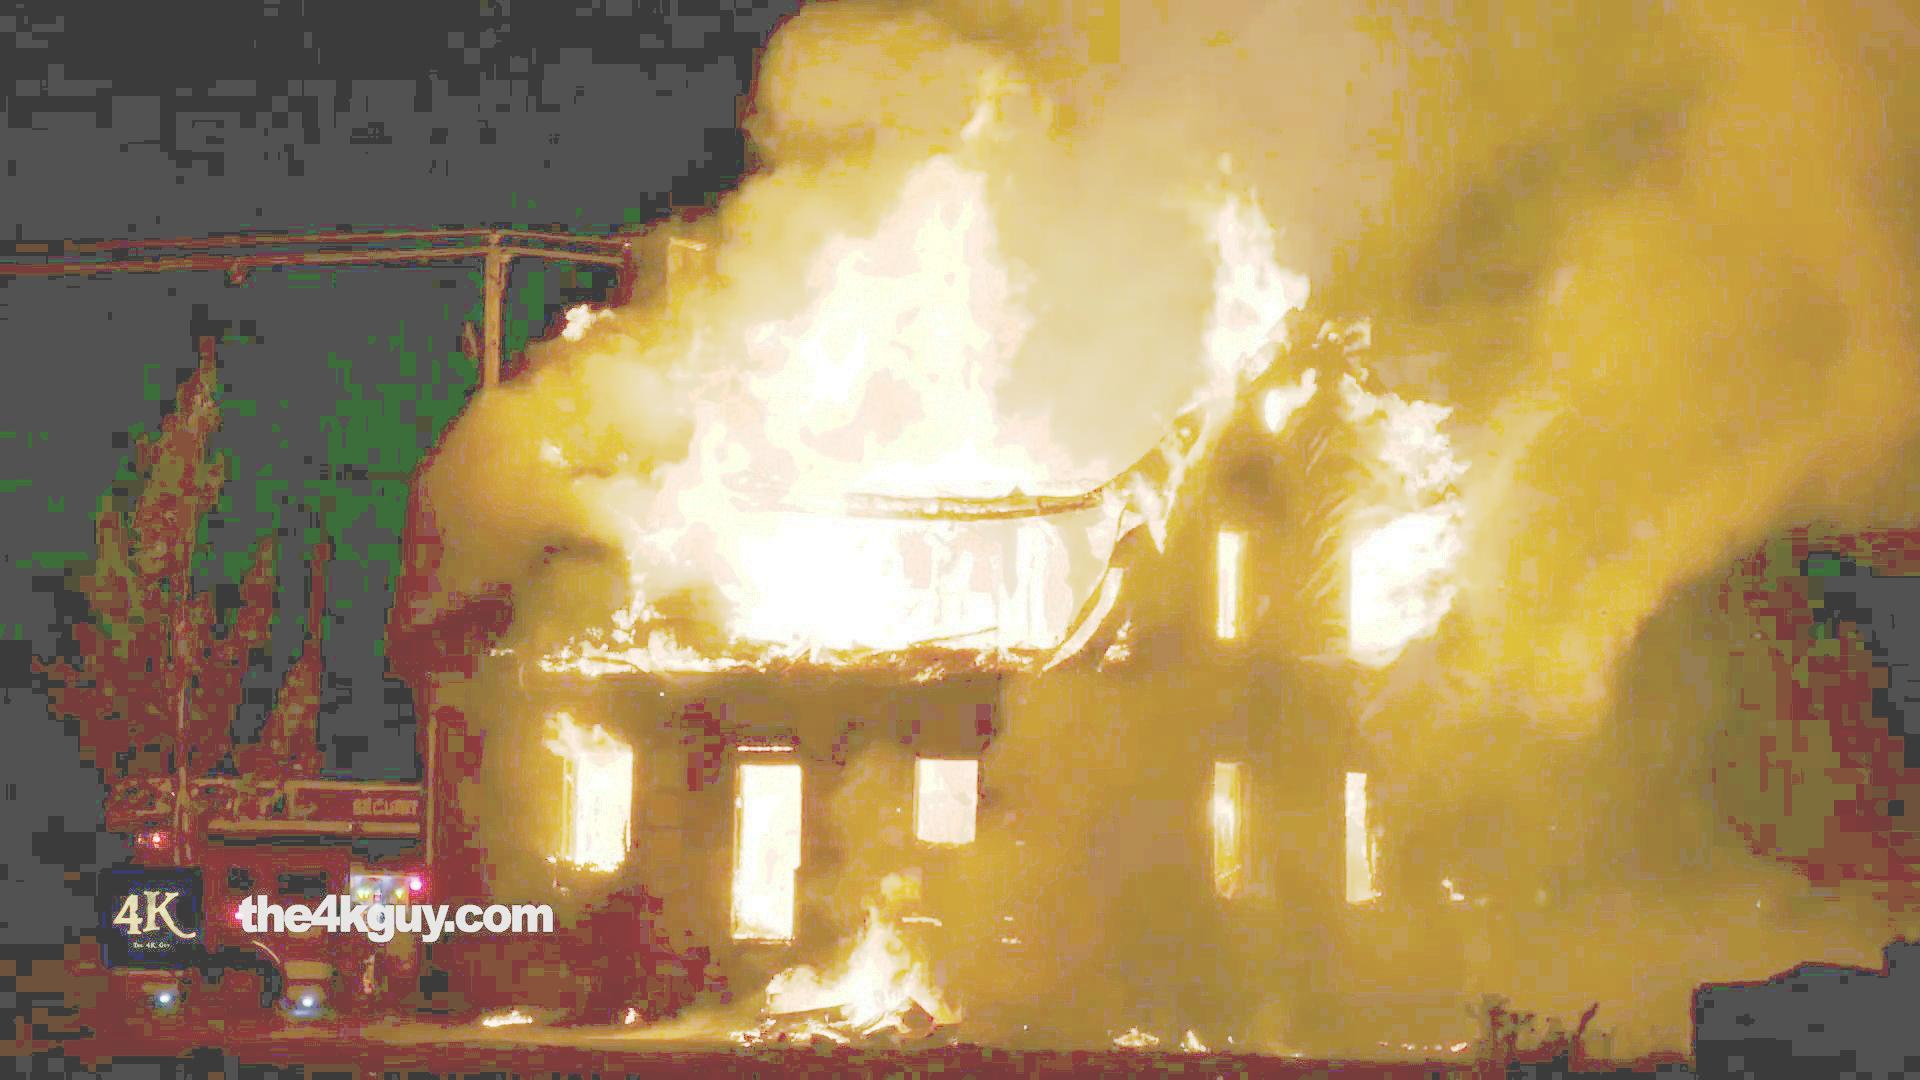fire: (597, 113, 1068, 669), (1303, 404, 1551, 665), (1182, 181, 1331, 371), (707, 773, 803, 963), (571, 748, 636, 855)
